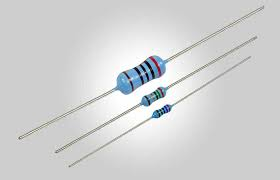resistor: (110, 54, 176, 99), (150, 101, 178, 125)
